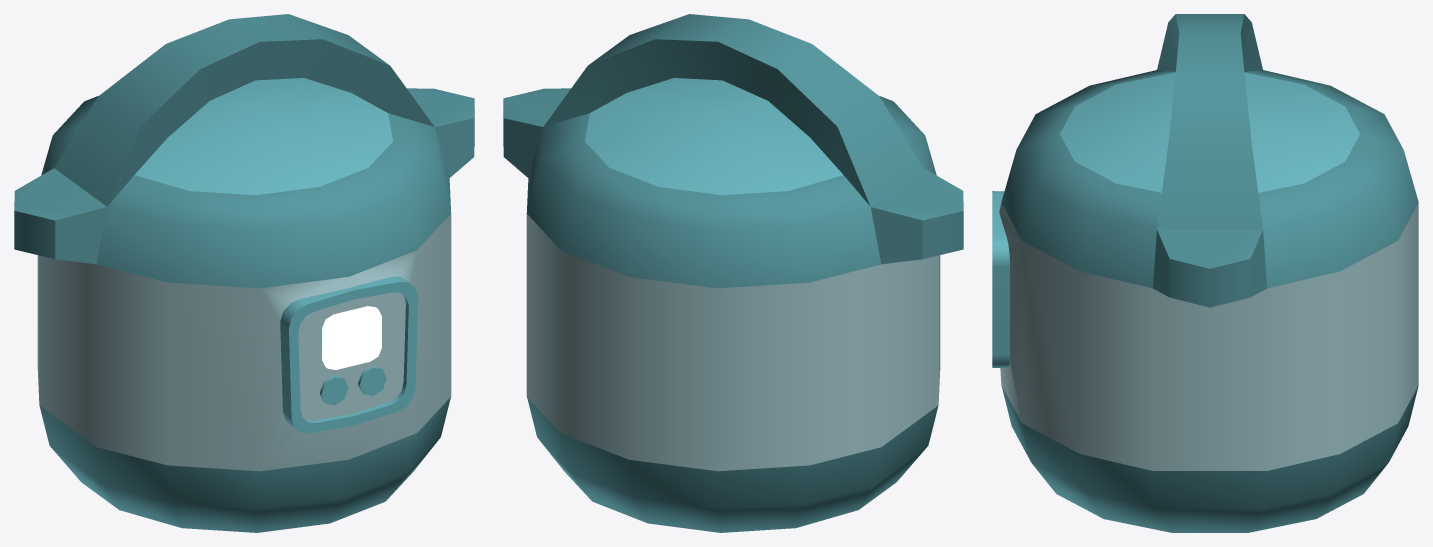
Rendered from app_pressureCooker.fbx.
3 renders of one model, left to right at view 1: azimuth 30°, elevation 25°; view 2: azimuth 150°, elevation 25°; view 3: azimuth 270°, elevation 25°, orthographic.
Visible parts, largest first — view 1: pressureCooker_body, pressureCooker_lid; view 2: pressureCooker_body, pressureCooker_lid; view 3: pressureCooker_body, pressureCooker_lid.
Boxes of the visible parts, x1=… form: pressureCooker_body: x1=37, y1=214, x2=451, y2=532; pressureCooker_lid: x1=14, y1=14, x2=474, y2=288; pressureCooker_body: x1=526, y1=214, x2=940, y2=532; pressureCooker_lid: x1=503, y1=14, x2=963, y2=288; pressureCooker_body: x1=992, y1=191, x2=1418, y2=532; pressureCooker_lid: x1=1001, y1=14, x2=1418, y2=307.
Size of the model in its own units: 50.98 by 45.53 by 40.96.
